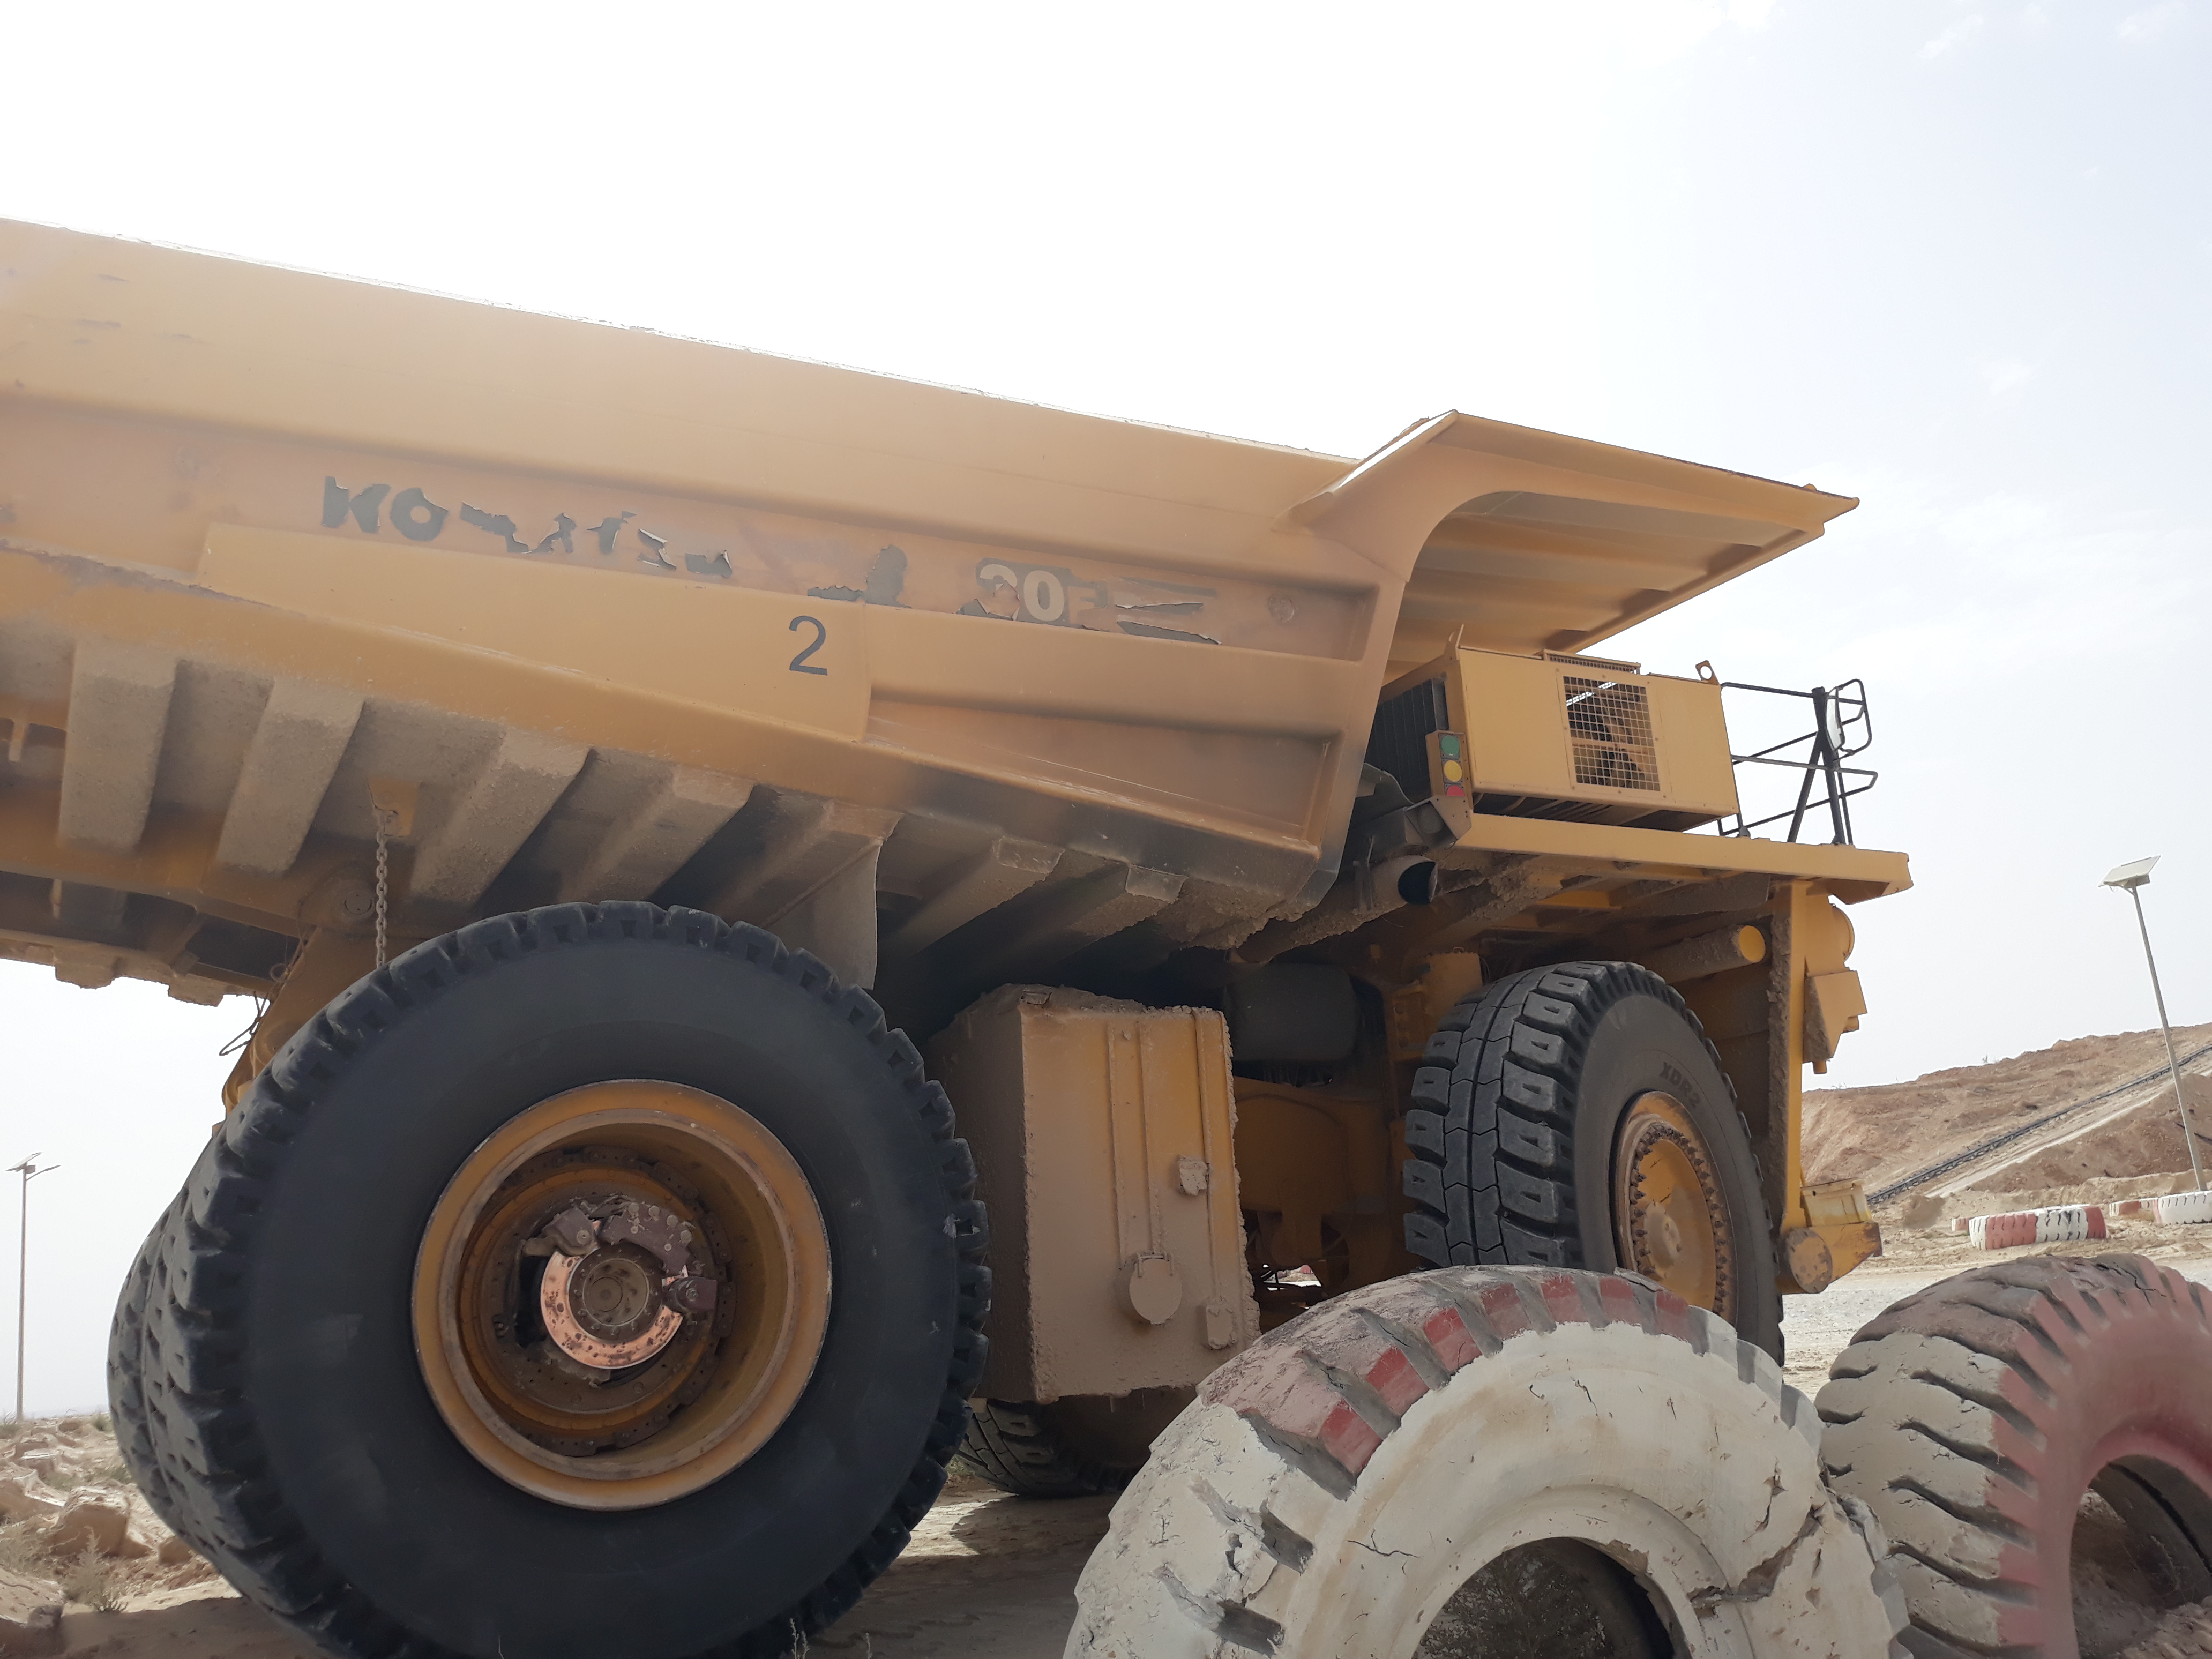camion: (3, 234, 1914, 1659)
